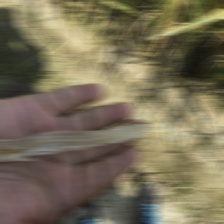Leaf_Blast: (15, 124, 147, 147)
